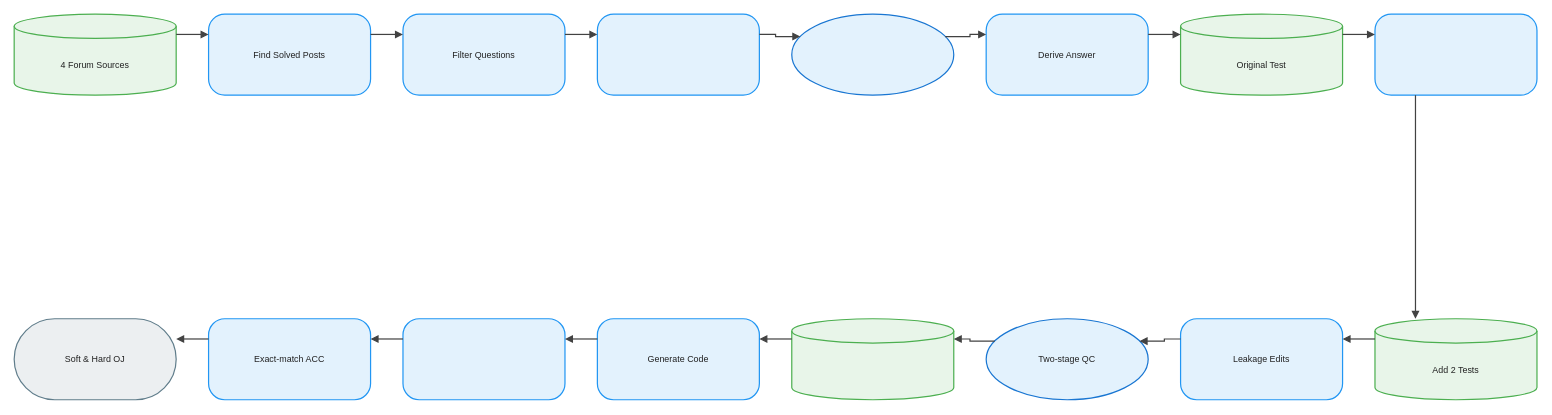
Some shapes in this 1552 by 415 pixel diagram are drawn without their labels. Each missing label, with the centre of its shape:
"Freeze 912/2,729" belongs at point (872, 359).
"GPT-4 Rewrite" belongs at point (678, 54).
"Human Verify" belongs at point (872, 54).
"Modify Twice" belongs at point (1455, 54).
"Run All Tests" belongs at point (483, 359).
